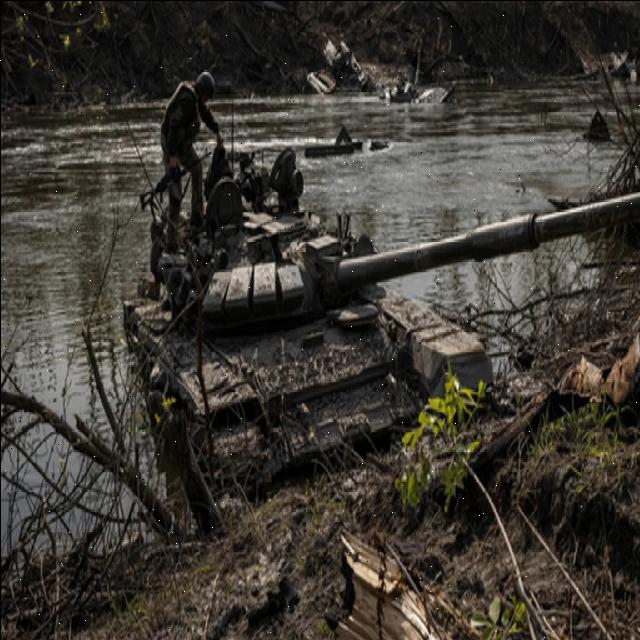TANK: (125, 134, 640, 534)
